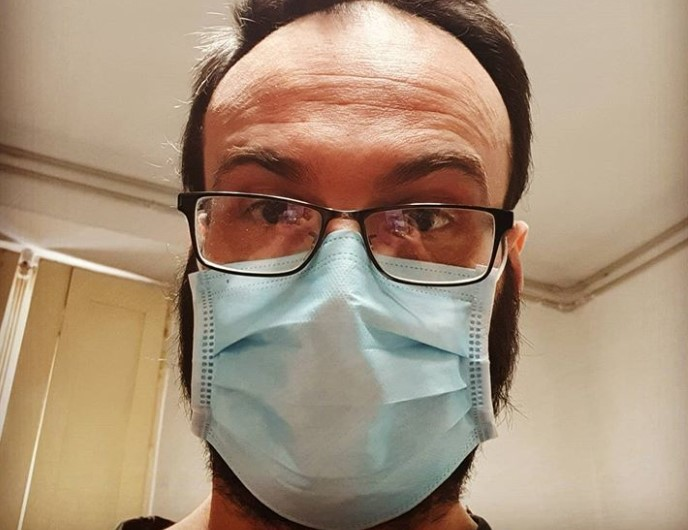face_with_mask: (183, 10, 531, 525)
